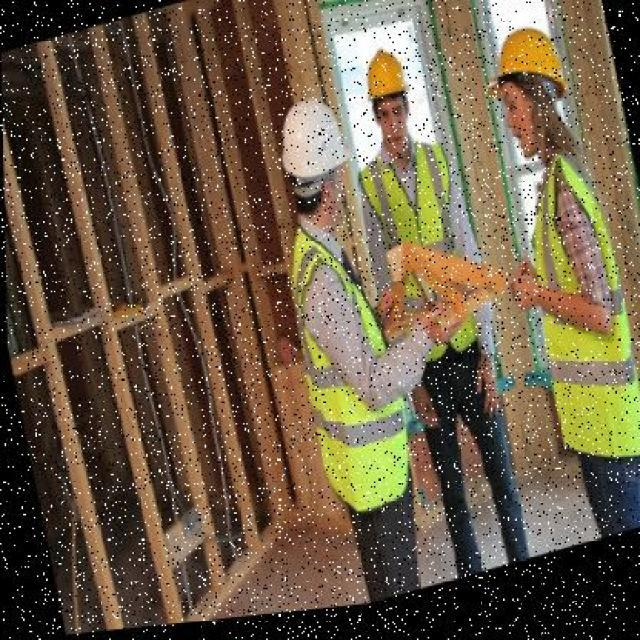helmet: (259, 85, 361, 209), (468, 15, 573, 127), (351, 40, 415, 124)
vest: (269, 200, 423, 534), (505, 145, 639, 499), (351, 135, 491, 395)
